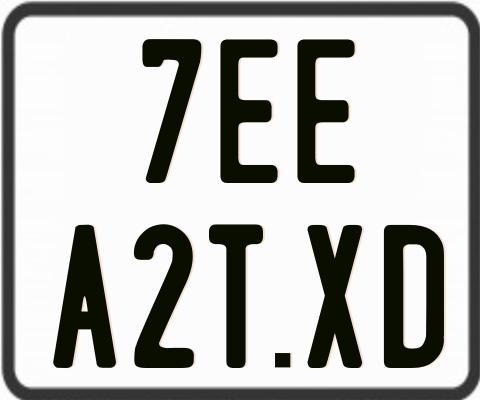2: (131, 224, 194, 369)
7: (139, 37, 202, 182)
A: (50, 223, 114, 369)
D: (384, 224, 445, 371)
E: (219, 37, 281, 184), (297, 36, 358, 180)
T: (207, 223, 266, 368)
X: (308, 223, 368, 370)
